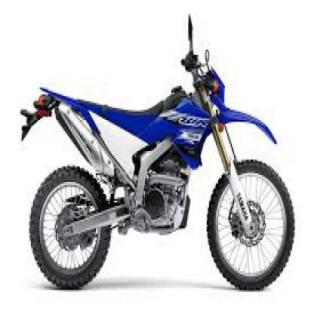Motocicleta: (17, 7, 296, 294)
